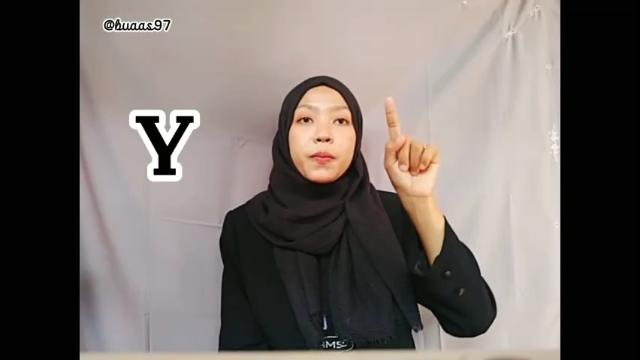Z: (382, 95, 442, 201)
